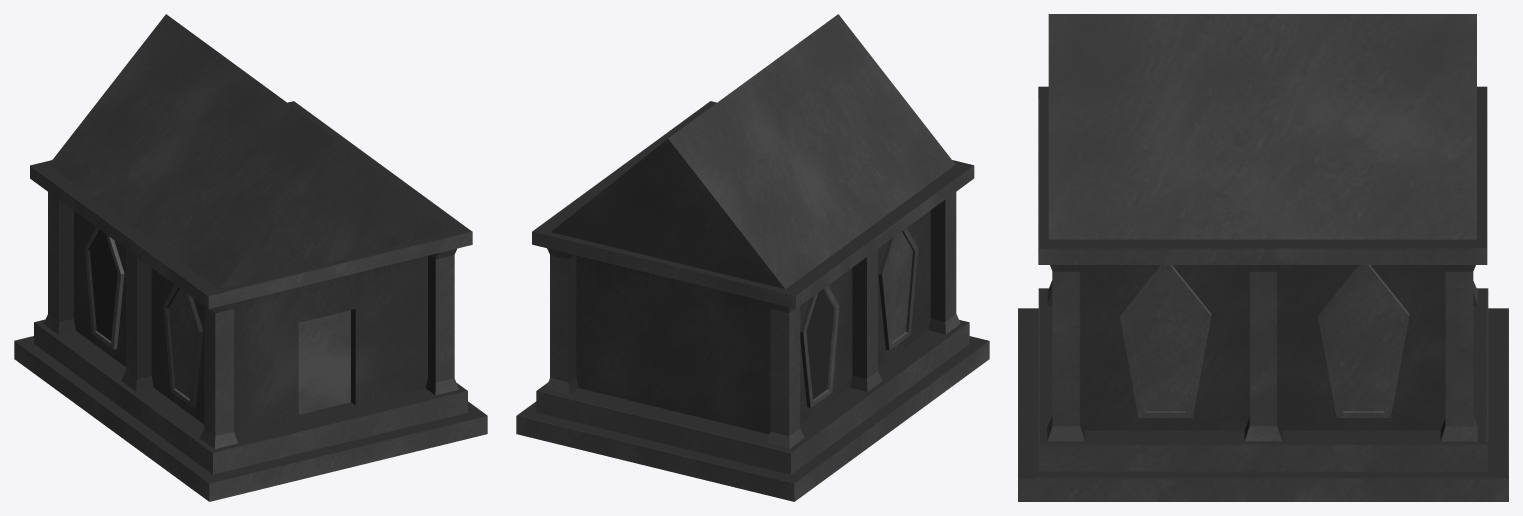
Rendered from Mausoleum_Model.fbx.
The picture shows the model from 3 angles, left to right: view 1: azimuth 30°, elevation 25°; view 2: azimuth 150°, elevation 25°; view 3: azimuth 270°, elevation 25°; orthographic projection. The views are drawn at different scales.
Parts seen in each view (by area): view 1: Mausoleum; view 2: Mausoleum; view 3: Mausoleum.
Part boxes in pixels (bbox=[...]): Mausoleum: bbox=[14, 14, 487, 501]; Mausoleum: bbox=[516, 14, 989, 501]; Mausoleum: bbox=[1018, 14, 1508, 501].
Bounding box in the file's own units: 625 × 688 × 760.
